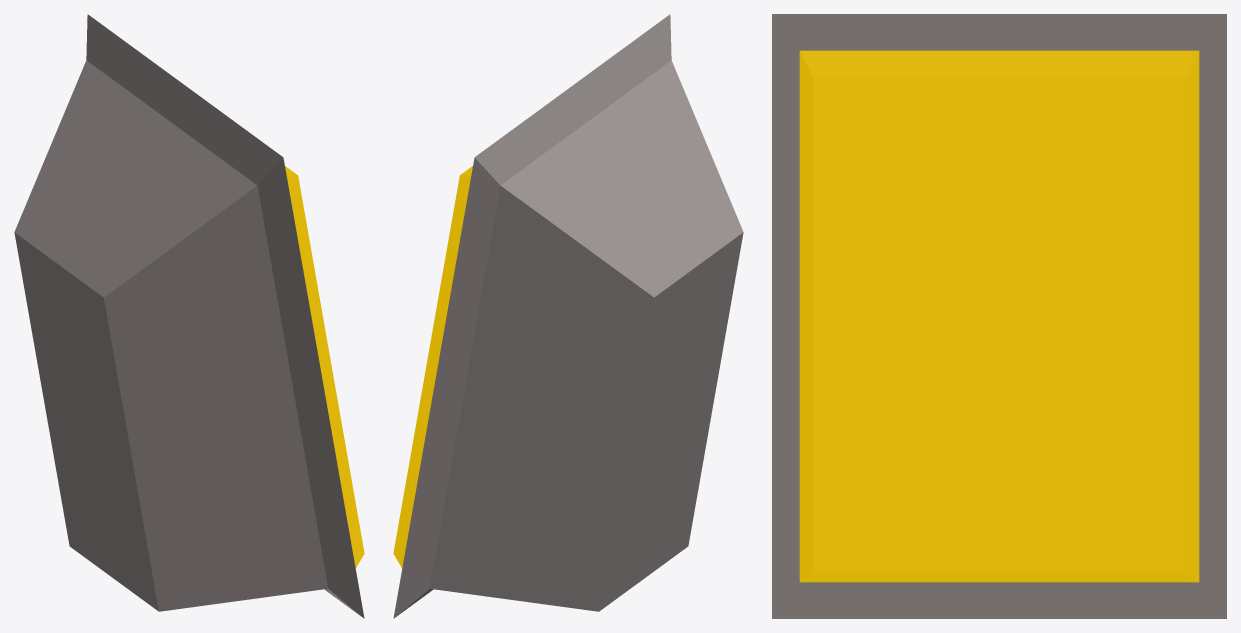
Rendered from lamp-1.glb.
3 views of the same model, side by side, from view 1: azimuth 30°, elevation 25°; view 2: azimuth 150°, elevation 25°; view 3: azimuth 270°, elevation 25° (orthographic). The views are drawn at different scales.
Parts seen in each view (by area): view 1: Cube, Cube.002; view 2: Cube, Cube.002; view 3: Cube.002, Cube.
Boxes of the visible parts, bbox=[...] form: Cube: bbox=[14, 14, 364, 618]; Cube.002: bbox=[285, 166, 364, 568]; Cube: bbox=[393, 14, 743, 618]; Cube.002: bbox=[393, 166, 472, 568]; Cube.002: bbox=[799, 50, 1199, 582]; Cube: bbox=[772, 14, 1226, 618].
Size of the model in its own units: 0.1104 by 0.2255 by 0.1663.
2 materials, 1 textured.
